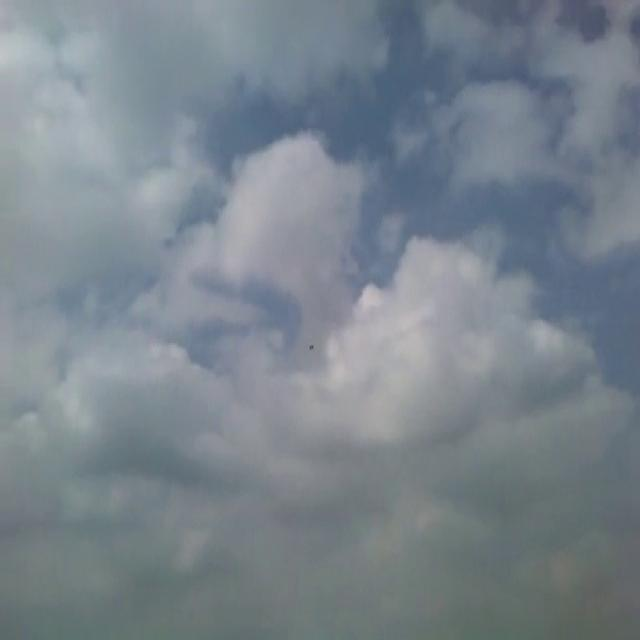drone: (305, 334, 317, 354)
